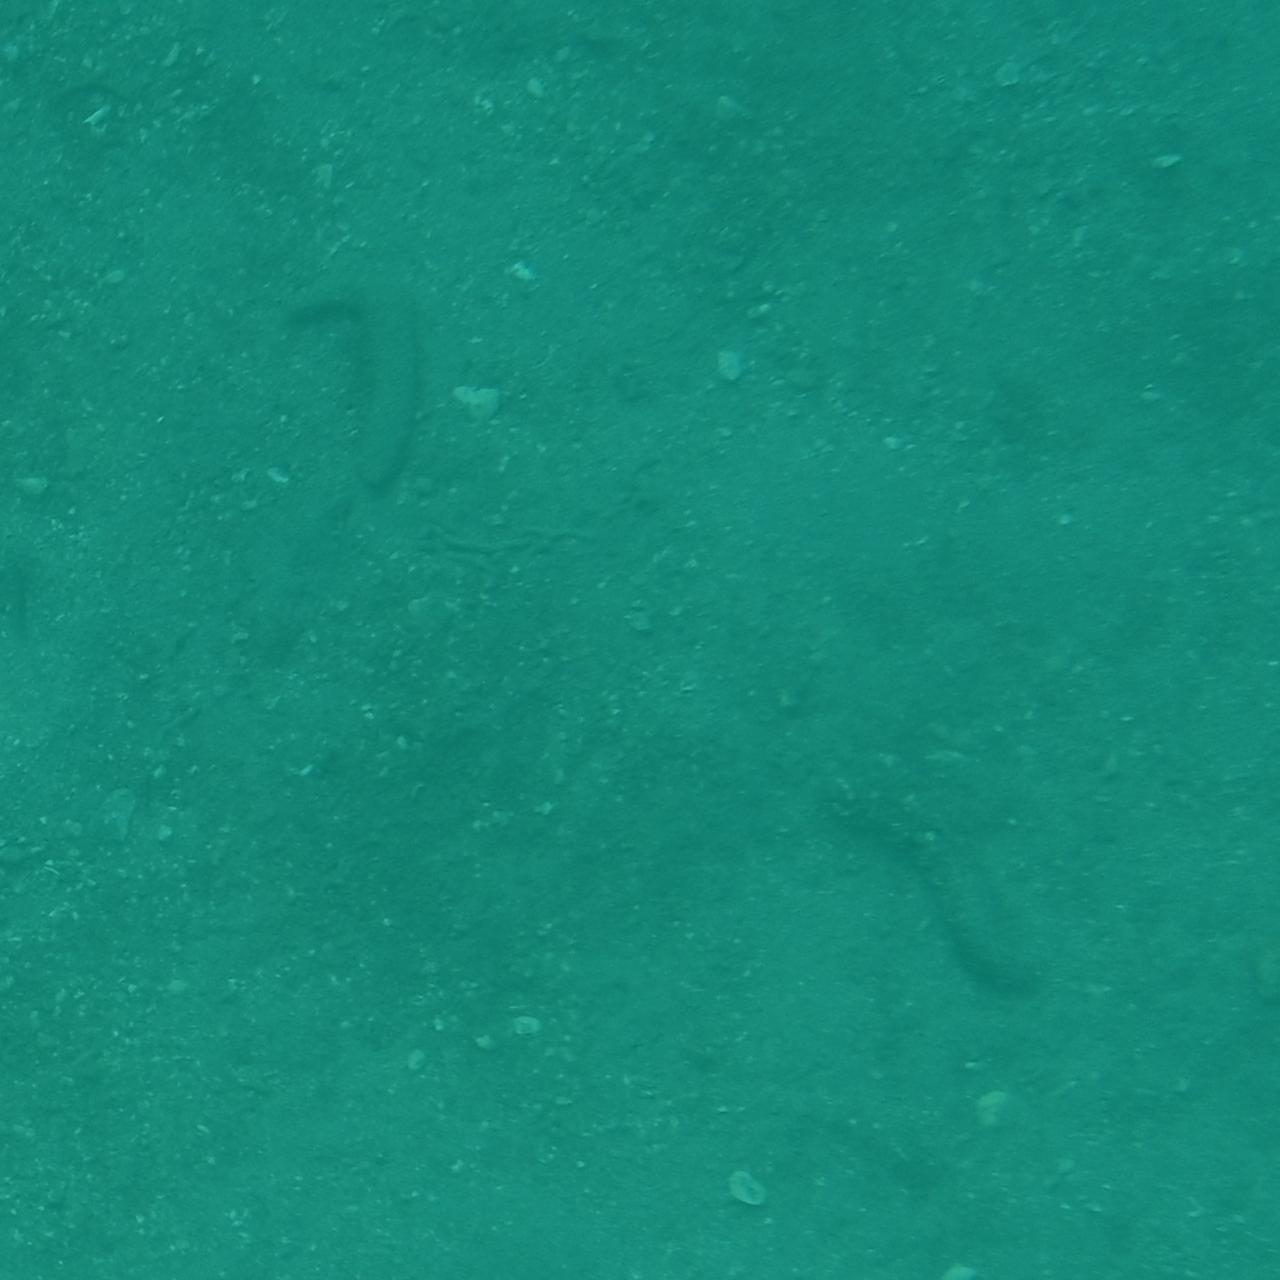Holothuria tubulosa: (791, 763, 1065, 1012), (284, 271, 421, 516)
